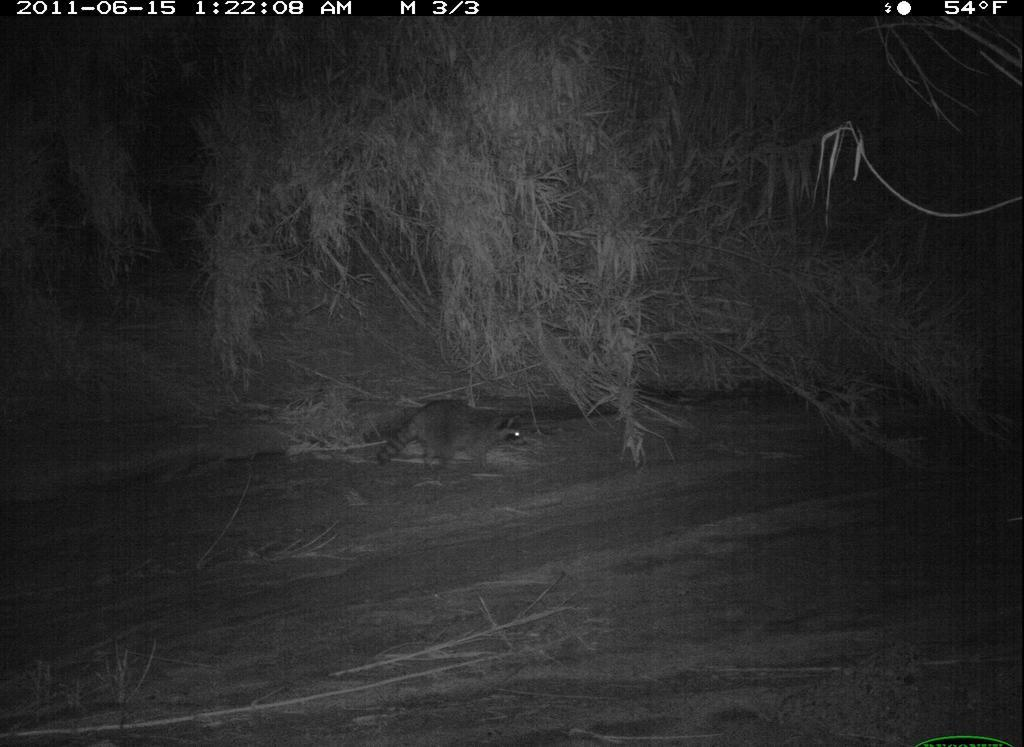raccoon: (367, 385, 536, 486)
